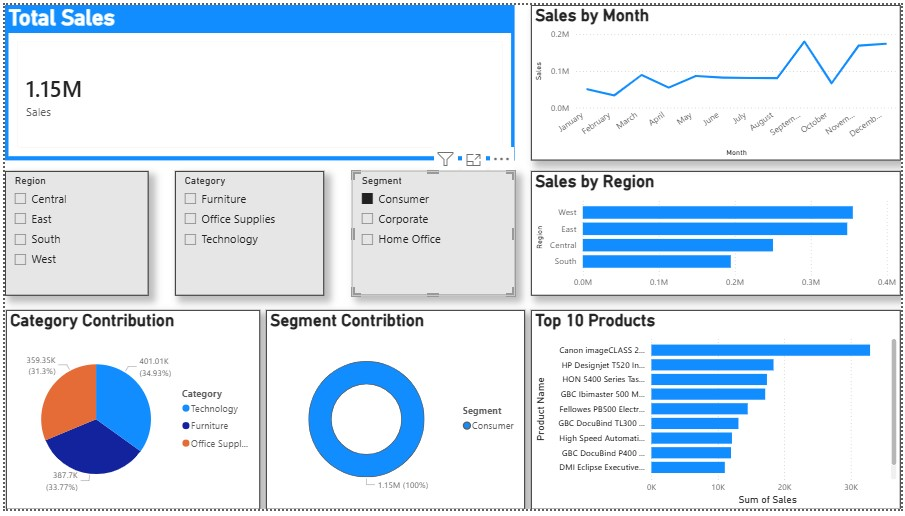

What the dashboard file says about the page in this screenshot:
{"tool":"powerbi","page":{"name":"Page 1","canvas":[1280,720],"ordinal":0},"visuals":[{"type":"cardVisual","title":"Total Sales","fields":{"Data":["Sum(train - CLean.Sales)"]},"box":[0,0,728.3,221.7],"z":0},{"type":"clusteredBarChart","fields":{"Category":["train - CLean.Region"],"Y":["Sum(train - CLean.Sales)"]},"box":[751.7,236.7,528.3,178.3],"z":1000},{"type":"pieChart","title":"Category Contribution","fields":{"Category":["train - CLean.Category"],"Y":["Sum(train - CLean.Sales)"]},"box":[1.7,435,363.3,285],"z":2000},{"type":"lineChart","fields":{"Category":["train - CLean.Order Date.Variation.Date Hierarchy.Year","train - CLean.Order Date.Variation.Date Hierarchy.Quarter","train - CLean.Order Date.Variation.Date Hierarchy.Month","train - CLean.Order Date.Variation.Date Hierarchy.Day"],"Y":["Sum(train - CLean.Sales)"]},"box":[751.7,0,528.3,221.7],"z":3000},{"type":"donutChart","title":"Segment Contribtion","fields":{"Category":["train - CLean.Segment"],"Y":["Sum(train - CLean.Sales)"]},"box":[373.3,435,370,285],"z":4000},{"type":"barChart","title":"Top 10 Products","fields":{"Category":["train - CLean.Product Name"],"Y":["Sum(train - CLean.Sales)"]},"box":[751.7,435,528.3,285],"z":5000},{"type":"slicer","fields":{"Values":["train - CLean.Region"]},"box":[0,236.7,205,178.3],"z":6000},{"type":"slicer","fields":{"Values":["train - CLean.Category"]},"box":[243.3,236.7,213.3,178.3],"z":7000},{"type":"slicer","fields":{"Values":["train - CLean.Segment"]},"box":[495,236.7,233.3,178.3],"z":8000}]}

Visuals, with their boxes in screenshot pixels (x1, y1, x2, y2), scaled from the page's 1280x720 canvas onto the 905x516 screenshot:
"Total Sales" cardVisual: left=0, top=0, right=515, bottom=159
clusteredBarChart - train - CLean.Region x Sum(train - CLean.Sales): left=531, top=170, right=904, bottom=297
"Category Contribution" pieChart: left=1, top=312, right=258, bottom=515
lineChart - train - CLean.Order Date.Variation.Date Hierarchy.Year x train - CLean.Order Date.Variation.Date Hierarchy.Quarter: left=531, top=0, right=904, bottom=159
"Segment Contribtion" donutChart: left=264, top=312, right=526, bottom=515
"Top 10 Products" barChart: left=531, top=312, right=904, bottom=515
slicer - train - CLean.Region: left=0, top=170, right=145, bottom=297
slicer - train - CLean.Category: left=172, top=170, right=323, bottom=297
slicer - train - CLean.Segment: left=350, top=170, right=515, bottom=297
